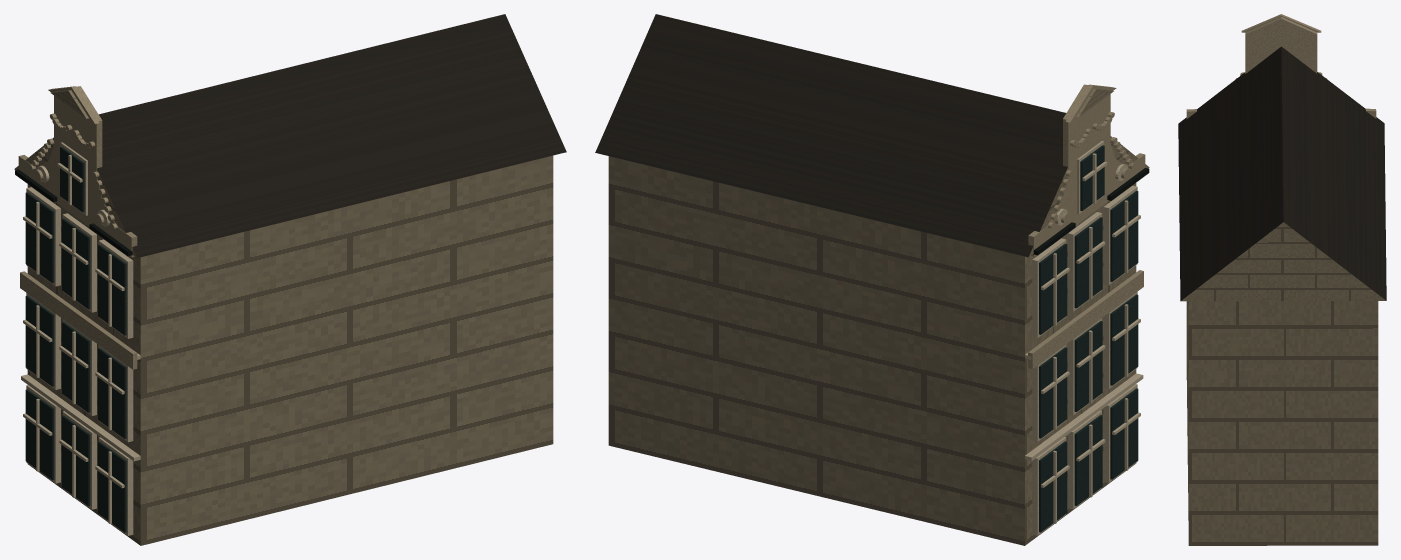
3 views of the same model, side by side, from view 1: azimuth 30°, elevation 25°; view 2: azimuth 150°, elevation 25°; view 3: azimuth 270°, elevation 25° (orthographic). The views are drawn at different scales.
Parts seen in each view (by area): view 1: leuvehaven22-bloch-stibbe-0, leuvehaven22-bloch-stibbe-1, leuvehaven22-bloch-stibbe-4, leuvehaven22-bloch-stibbe-3, leuvehaven22-bloch-stibbe-2, leuvehaven22-bloch-stibbe-5; view 2: leuvehaven22-bloch-stibbe-0, leuvehaven22-bloch-stibbe-1, leuvehaven22-bloch-stibbe-4, leuvehaven22-bloch-stibbe-3, leuvehaven22-bloch-stibbe-2, leuvehaven22-bloch-stibbe-5; view 3: leuvehaven22-bloch-stibbe-0, leuvehaven22-bloch-stibbe-1, leuvehaven22-bloch-stibbe-2.
Boxes of the visible parts, x1=… form: leuvehaven22-bloch-stibbe-0: x1=14, y1=90, x2=553, y2=545; leuvehaven22-bloch-stibbe-1: x1=97, y1=14, x2=566, y2=257; leuvehaven22-bloch-stibbe-4: x1=25, y1=146, x2=126, y2=532; leuvehaven22-bloch-stibbe-3: x1=21, y1=142, x2=140, y2=535; leuvehaven22-bloch-stibbe-2: x1=18, y1=86, x2=137, y2=369; leuvehaven22-bloch-stibbe-5: x1=15, y1=169, x2=132, y2=256; leuvehaven22-bloch-stibbe-0: x1=608, y1=88, x2=1149, y2=545; leuvehaven22-bloch-stibbe-1: x1=595, y1=14, x2=1067, y2=257; leuvehaven22-bloch-stibbe-4: x1=1039, y1=145, x2=1138, y2=532; leuvehaven22-bloch-stibbe-3: x1=1025, y1=141, x2=1143, y2=535; leuvehaven22-bloch-stibbe-2: x1=1028, y1=84, x2=1145, y2=369; leuvehaven22-bloch-stibbe-5: x1=1033, y1=168, x2=1149, y2=255; leuvehaven22-bloch-stibbe-0: x1=1181, y1=222, x2=1385, y2=545; leuvehaven22-bloch-stibbe-1: x1=1178, y1=46, x2=1386, y2=300; leuvehaven22-bloch-stibbe-2: x1=1186, y1=14, x2=1376, y2=118.
Bounding box in the file's own units: 12.75 × 11.67 × 6.19.
6 materials, 6 textured.
